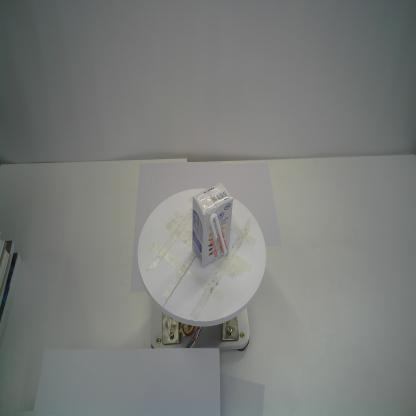Milk: (191, 182, 233, 268)
